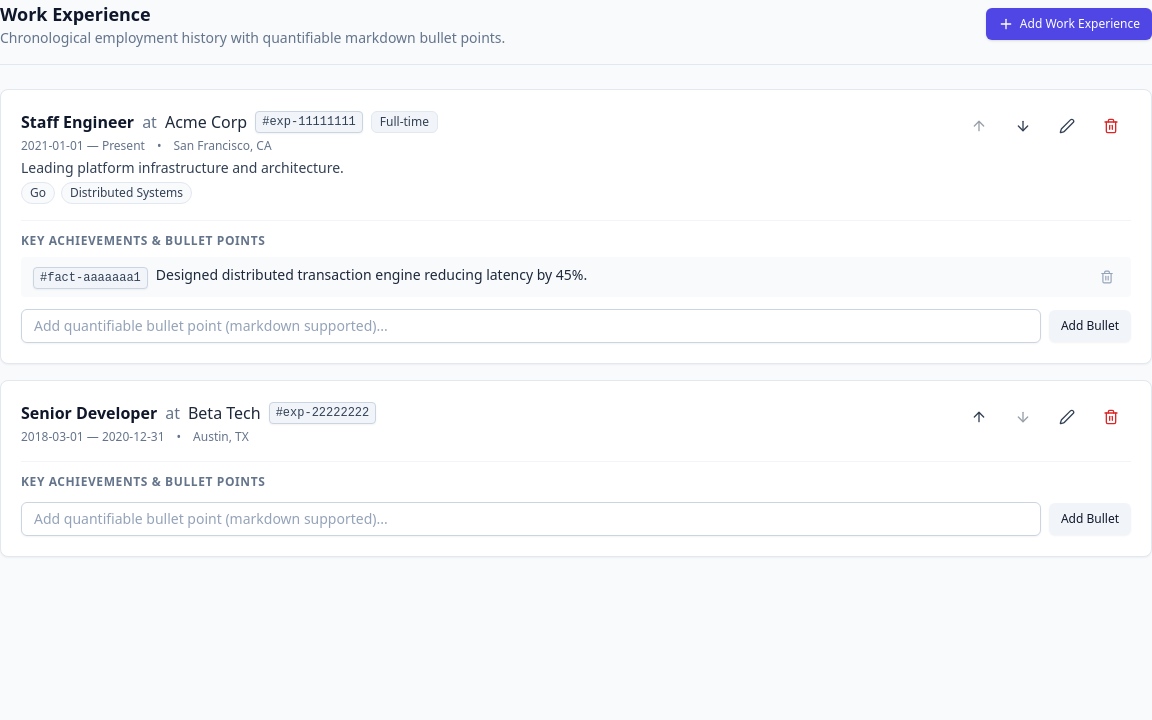
Test case: ExperienceList › renders availableSkills chips and synchronizes selection via click toggles
Click the button "Add Work Experience": point(1069, 24) [986, 8, 1151, 40]
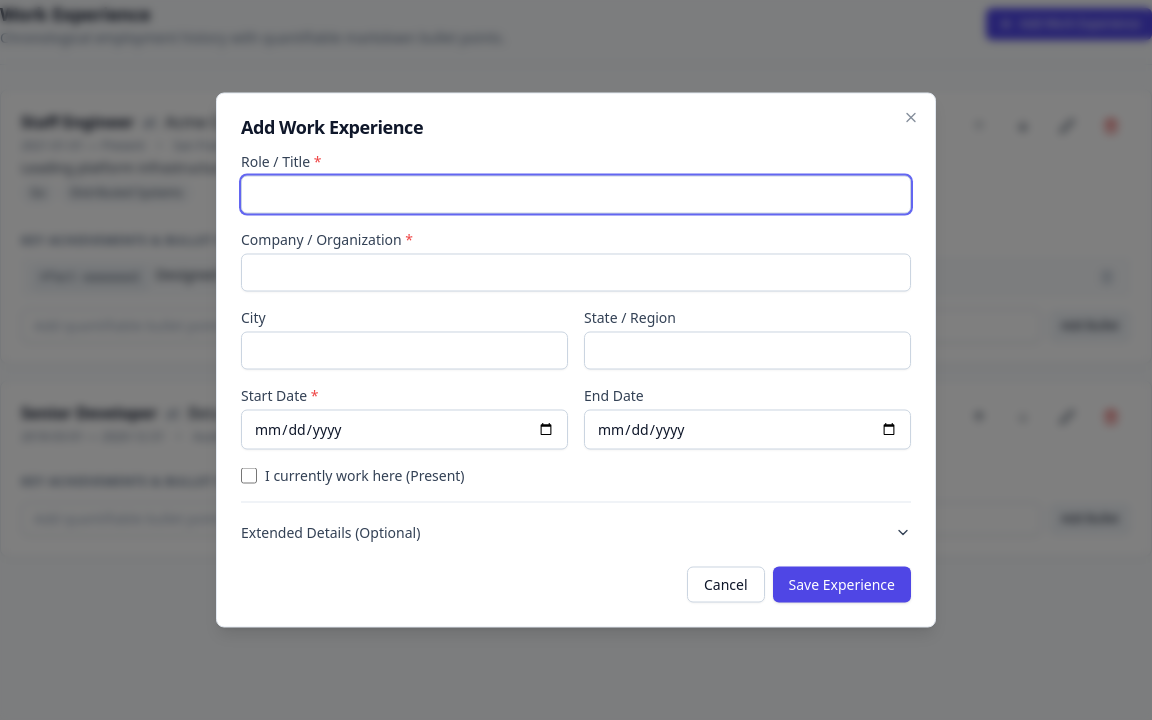
Click the button "Extended Details (Optional)": point(331, 532) [241, 514, 911, 550]
(page scrolled)
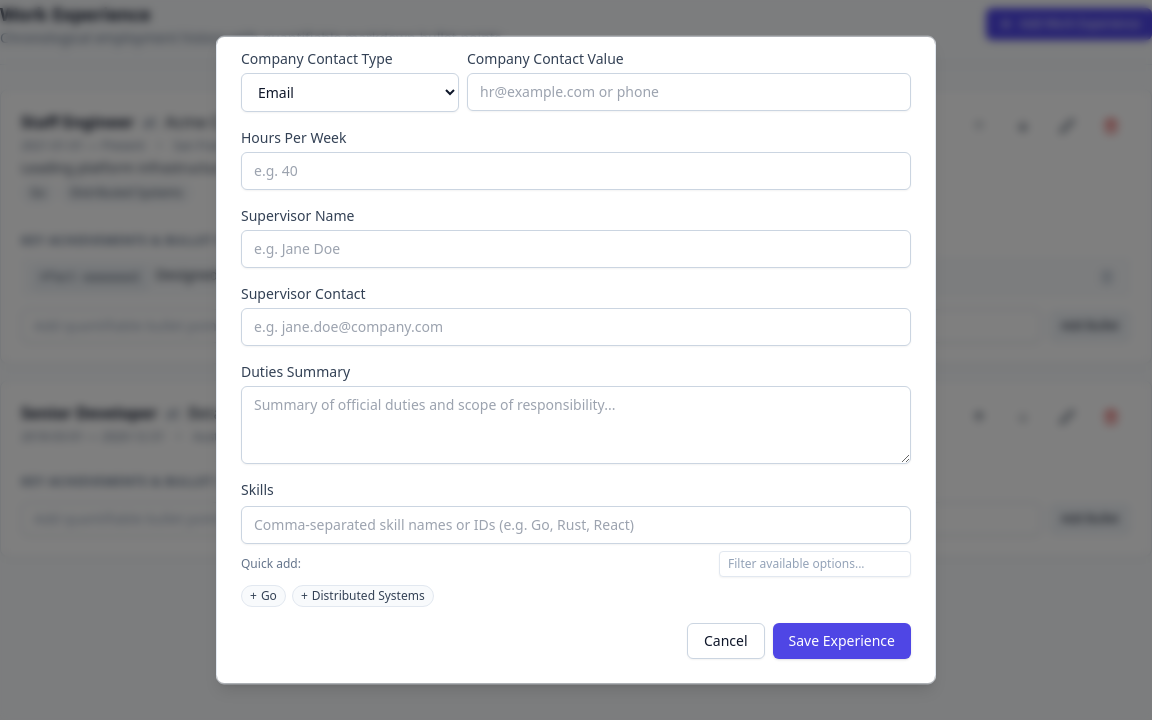
Expected: the field labelled "Skills" is empty, [241, 506, 911, 544]
Expected: the text "Quick add:" is shown, [241, 556, 301, 572]
Expected: the button "+ Go" is shown
Click the button "+ Go": point(263, 596) [241, 585, 286, 607]
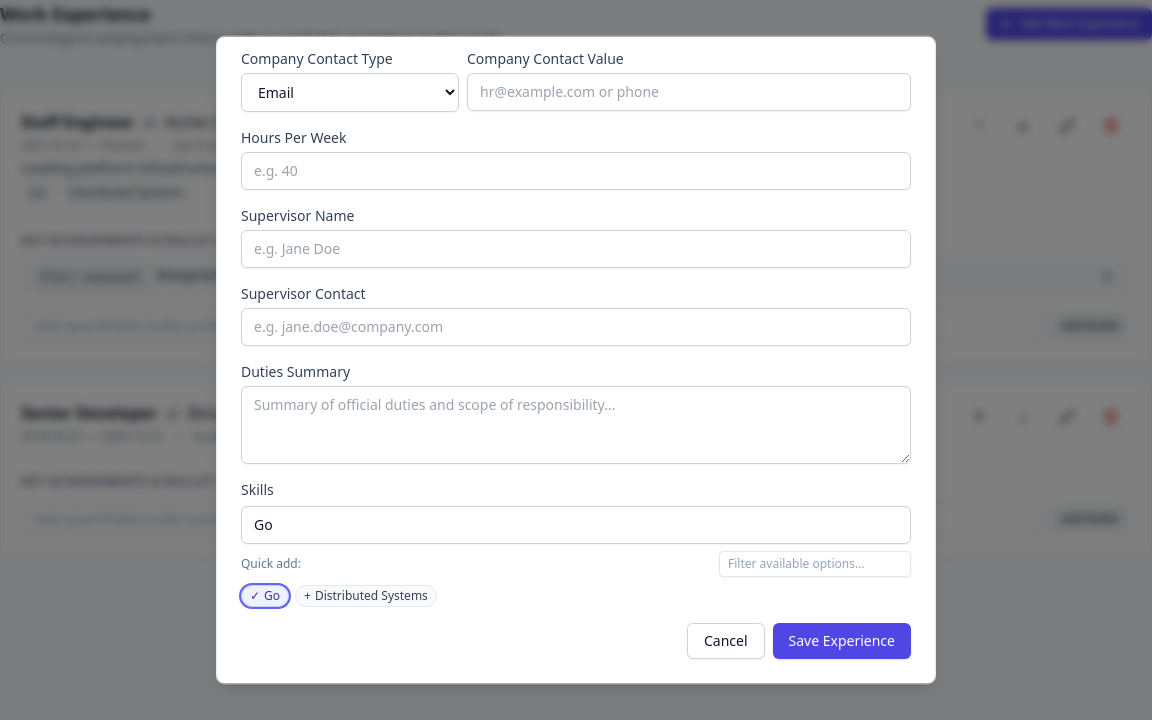
Expected: the field labelled "Skills" holds "Go", [241, 506, 911, 544]
Expected: the button "✓ Go" is shown, [241, 585, 289, 607]
Expected: the button "Go" no longer shows "+"
Click the button "+ Distributed Systems": point(366, 596) [295, 585, 437, 607]
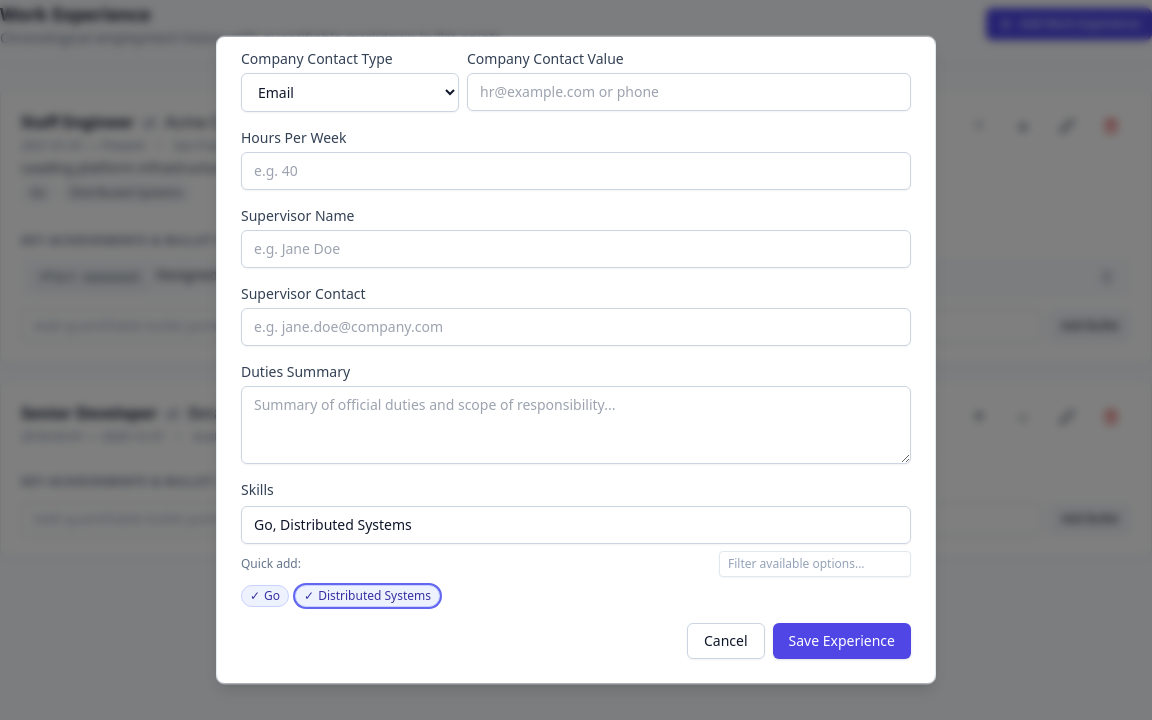
Expected: the field labelled "Skills" holds "Go, Distributed Systems", [241, 506, 911, 544]
Expected: the button "✓ Distributed Systems" is shown, [295, 585, 440, 607]
Expected: the button "Distributed Systems" no longer shows "+"
Click the button "✓ Go": point(265, 596) [241, 585, 289, 607]
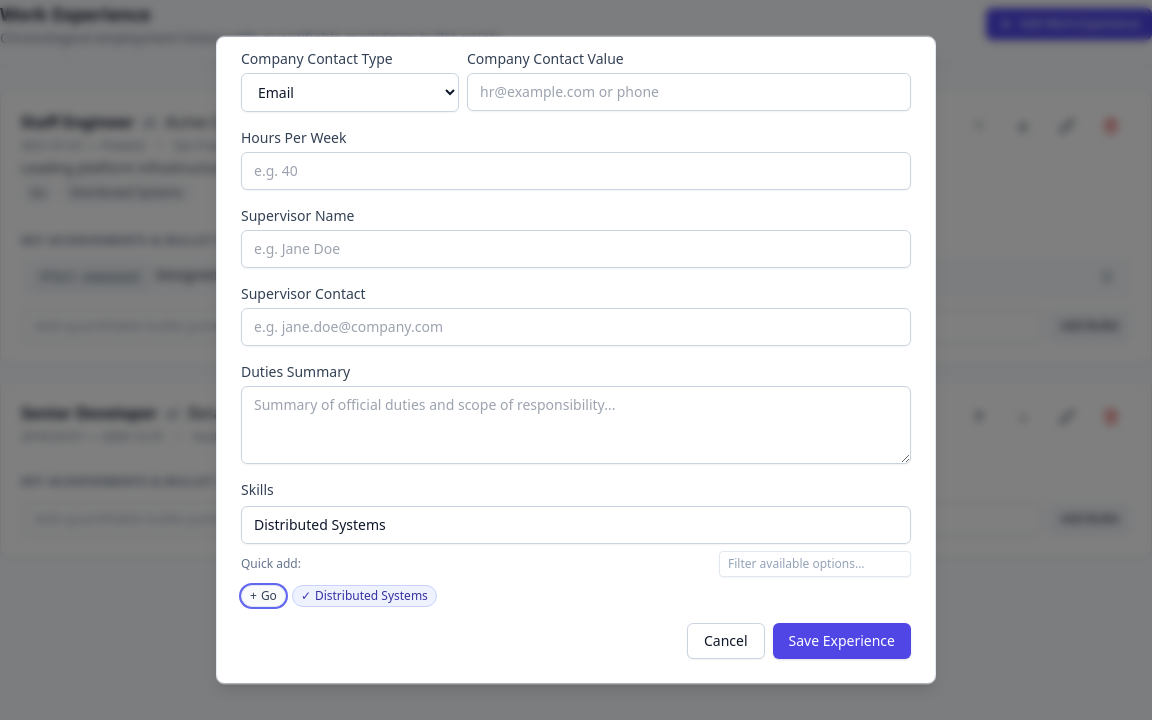
Expected: the field labelled "Skills" holds "Distributed Systems", [241, 506, 911, 544]
Expected: the button "+ Go" is shown, [241, 585, 286, 607]
Expected: the button "Go" no longer shows "✓"
